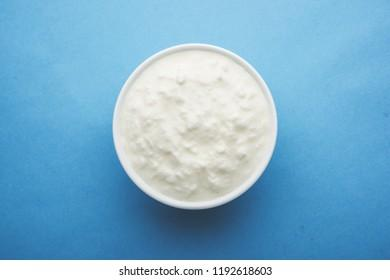yogurt: (113, 44, 276, 213)
